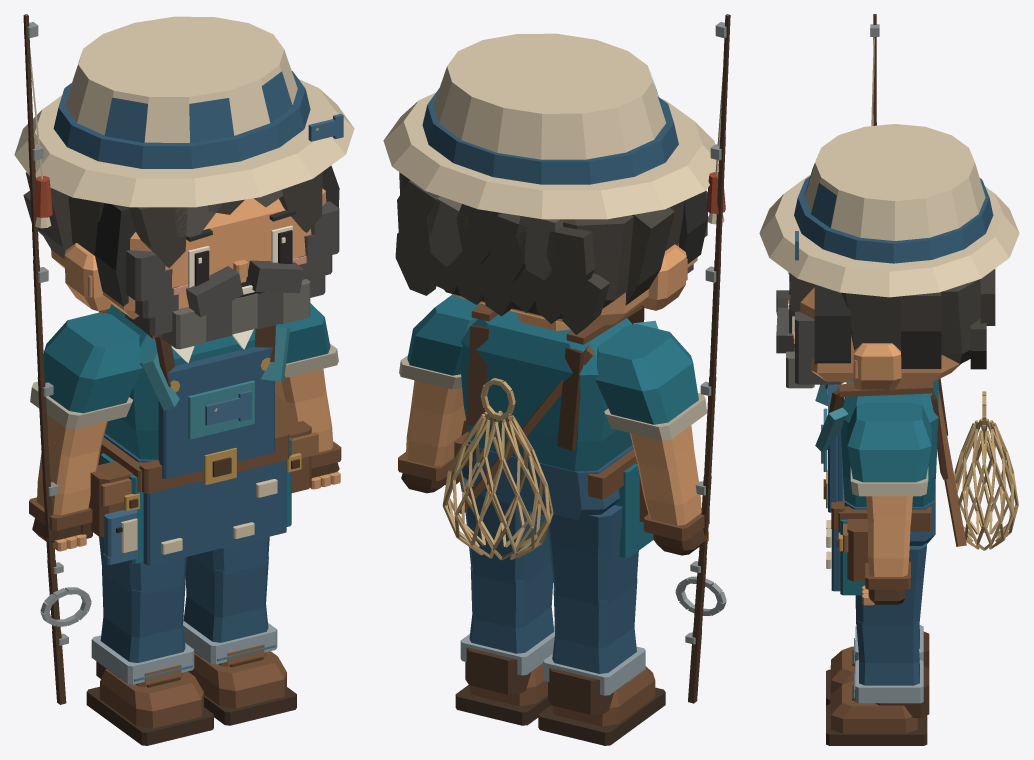
File: fisherman.glb
The picture shows the model from 3 angles, left to right: view 1: azimuth 30°, elevation 25°; view 2: azimuth 150°, elevation 25°; view 3: azimuth 270°, elevation 25°; orthographic projection. The views are drawn at different scales.
Parts seen in each view (by area): view 1: fisherman__Hat_fisherman_cream, fisherman__FishingApron_fisherman_denim, fisherman__Hat_fisherman_denim, fisherman__Beard_fisherman_greyhair, fisherman__Head_fisherman_skin, fisherman__Arm_L_fisherman_shirt, fisherman__Head_fisherman_hair, fisherman__Shin_L_fisherman_denim, fisherman__Shin_R_fisherman_denim, fisherman__FishingRod_fisherman_leather_dark, fisherman__Spine_fisherman_shirt, fisherman__UtilityBelt_fisherman_leather (+35 smaller); view 2: fisherman__Hat_fisherman_cream, fisherman__Head_fisherman_hair, fisherman__Spine_fisherman_shirt, fisherman__FishingNet_fisherman_rope, fisherman__Arm_L_fisherman_shirt, fisherman__Hat_fisherman_denim, fisherman__Thigh_L_fisherman_denim, fisherman__Shin_L_fisherman_denim, fisherman__Shin_R_fisherman_denim, fisherman__FishingRod_fisherman_leather_dark, fisherman__Hips_fisherman_denim, fisherman__Head_fisherman_hair_light (+27 smaller); view 3: fisherman__Hat_fisherman_cream, fisherman__Head_fisherman_hair, fisherman__Arm_R_fisherman_shirt, fisherman__Hat_fisherman_denim, fisherman__FishingNet_fisherman_rope, fisherman__Head_fisherman_skin, fisherman__Shin_R_fisherman_denim, fisherman__Foot_R_fisherman_leather, fisherman__Spine_fisherman_shirt, fisherman__Head_fisherman_hair_dark, fisherman__Beard_fisherman_greyhair, fisherman__Thigh_R_fisherman_denim (+18 smaller).
Part boxes in pixels (bbox=[...]): fisherman__Hat_fisherman_cream: bbox=[14, 16, 354, 207]; fisherman__FishingApron_fisherman_denim: bbox=[143, 346, 286, 565]; fisherman__Hat_fisherman_denim: bbox=[53, 71, 310, 168]; fisherman__Beard_fisherman_greyhair: bbox=[125, 201, 339, 341]; fisherman__Head_fisherman_skin: bbox=[51, 188, 326, 319]; fisherman__Arm_L_fisherman_shirt: bbox=[43, 312, 142, 413]; fisherman__Head_fisherman_hair: bbox=[23, 172, 322, 267]; fisherman__Shin_L_fisherman_denim: bbox=[100, 568, 185, 662]; fisherman__Shin_R_fisherman_denim: bbox=[183, 556, 268, 642]; fisherman__FishingRod_fisherman_leather_dark: bbox=[23, 14, 66, 704]; fisherman__Spine_fisherman_shirt: bbox=[105, 304, 255, 459]; fisherman__UtilityBelt_fisherman_leather: bbox=[89, 419, 311, 537]; fisherman__Hat_fisherman_cream: bbox=[383, 33, 718, 219]; fisherman__Head_fisherman_hair: bbox=[395, 172, 684, 334]; fisherman__Spine_fisherman_shirt: bbox=[460, 311, 632, 471]; fisherman__FishingNet_fisherman_rope: bbox=[442, 378, 553, 560]; fisherman__Arm_L_fisherman_shirt: bbox=[595, 324, 698, 424]; fisherman__Hat_fisherman_denim: bbox=[422, 80, 678, 184]; fisherman__Thigh_L_fisherman_denim: bbox=[548, 505, 638, 605]; fisherman__Shin_L_fisherman_denim: bbox=[552, 578, 637, 673]; fisherman__Shin_R_fisherman_denim: bbox=[469, 564, 554, 653]; fisherman__FishingRod_fisherman_leather_dark: bbox=[688, 14, 730, 703]; fisherman__Hips_fisherman_denim: bbox=[462, 440, 633, 520]; fisherman__Head_fisherman_hair_light: bbox=[426, 196, 563, 280]; fisherman__Hat_fisherman_cream: bbox=[759, 124, 1019, 297]; fisherman__Head_fisherman_hair: bbox=[790, 269, 995, 369]; fisherman__Arm_R_fisherman_shirt: bbox=[847, 403, 931, 482]; fisherman__Hat_fisherman_denim: bbox=[794, 163, 993, 263]; fisherman__FishingNet_fisherman_rope: bbox=[954, 391, 1018, 550]; fisherman__Head_fisherman_skin: bbox=[788, 287, 960, 389]; fisherman__Shin_R_fisherman_denim: bbox=[856, 620, 919, 685]; fisherman__Foot_R_fisherman_leather: bbox=[830, 681, 917, 733]; fisherman__Spine_fisherman_shirt: bbox=[841, 379, 938, 506]; fisherman__Head_fisherman_hair_dark: bbox=[789, 281, 850, 364]; fisherman__Beard_fisherman_greyhair: bbox=[776, 290, 843, 384]; fisherman__Thigh_R_fisherman_denim: bbox=[855, 543, 926, 626].
Size of the model in its own units: 0.85 by 1.85 by 0.6944.
